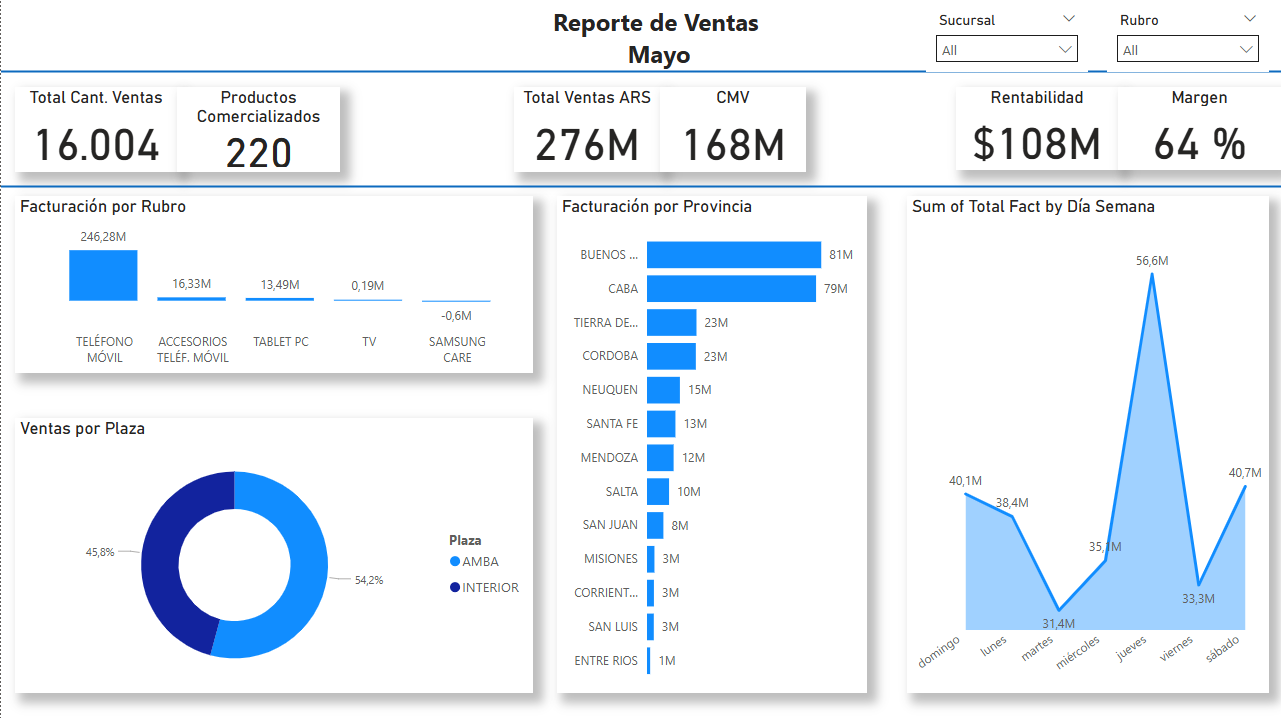

This screenshot's page, from the dashboard's own definition file:
{"tool":"powerbi","page":{"name":"Resumen Ventas","canvas":[1280,720],"ordinal":0},"visuals":[{"type":"textbox","box":[516.5,0,283,78.8],"z":0},{"type":"group","id":"g1","title":"Group 2","box":[512.6,86.6,291.8,84.6],"z":1000},{"type":"card","title":"Total Ventas ARS","fields":{"Values":["Sum(Base Ventas.Total Fact)"]},"box":[512.6,86.6,145.9,84.6],"z":1000,"group":"g1"},{"type":"card","title":"Total Cant. Ventas","fields":{"Values":["Sum(Base Ventas.Cantidad)"]},"box":[13.6,86.6,162.4,84.6],"z":2000,"group":"g3"},{"type":"group","id":"g2","title":"Group 3","box":[955.1,86.6,324.9,82.7],"z":2000},{"type":"group","id":"g3","title":"Group 1","box":[13.6,86.6,324.9,84.6],"z":3000},{"type":"card","title":"Rentabilidad ","fields":{"Values":["Medidas.Rentabilidad Bruta"]},"box":[955.1,86.6,162.4,82.7],"z":3000,"group":"g2"},{"type":"card","title":"Margen","fields":{"Values":["Medidas.Rentabilidad Bruta %"]},"box":[1117.5,86.6,162.4,82.7],"z":4000,"group":"g2"},{"type":"clusteredColumnChart","title":"Facturación por Rubro","fields":{"Category":["Base Ventas.Rubro"],"Y":["Sum(Base Ventas.Total Fact)"]},"box":[13.6,195.5,518.4,177],"z":4000},{"type":"card","title":"CMV","fields":{"Values":["Sum(Merge1.CMV)"]},"box":[658.5,86.6,145.9,84.6],"z":5000,"group":"g1"},{"type":"donutChart","title":"Ventas por Plaza","fields":{"Y":["Sum(Base Ventas.Total Fact)"],"Category":["Estructura.Plaza"]},"box":[13.6,418.2,518.4,275.3],"z":5000},{"type":"card","title":"Productos Comercializados","fields":{"Values":["Count(Stock.SKU)"]},"box":[176,86.6,162.4,84.6],"z":6000,"group":"g3"},{"type":"clusteredBarChart","title":"Facturación por Provincia","fields":{"Category":["Estructura.Provincia"],"Y":["Sum(Base Ventas.Total Fact)"]},"box":[556.4,195.5,309.3,498],"z":6000},{"type":"lineChart","fields":{"Category":["CALENDARIO.Día Semana "],"Y":["Sum(Base Ventas.Total Fact)"]},"box":[905.5,195.5,362.8,498],"z":7000},{"type":"shape","box":[0,54.5,1280,35],"z":8000},{"type":"shape","box":[0,169.2,1280,35],"z":9000},{"type":"slicer","fields":{"Values":["Base Ventas.Rubro"]},"box":[1105.9,6.8,162.4,65.2],"z":10000},{"type":"slicer","fields":{"Values":["Estructura.Sucursal"]},"box":[925,6.8,162.4,65.2],"z":11000}]}

Visuals, with their boxes in screenshot pixels (x1, y1, x2, y2), scaled from the page's 1280x720 canvas onto the 1281x718 screenshot:
textbox: left=517, top=0, right=800, bottom=79
"Group 2" group: left=513, top=86, right=805, bottom=171
"Total Ventas ARS" card: left=513, top=86, right=659, bottom=171
"Total Cant. Ventas" card: left=14, top=86, right=176, bottom=171
"Group 3" group: left=956, top=86, right=1280, bottom=169
"Group 1" group: left=14, top=86, right=339, bottom=171
"Rentabilidad " card: left=956, top=86, right=1118, bottom=169
"Margen" card: left=1118, top=86, right=1280, bottom=169
"Facturación por Rubro" clusteredColumnChart: left=14, top=195, right=532, bottom=371
"CMV" card: left=659, top=86, right=805, bottom=171
"Ventas por Plaza" donutChart: left=14, top=417, right=532, bottom=692
"Productos Comercializados" card: left=176, top=86, right=339, bottom=171
"Facturación por Provincia" clusteredBarChart: left=557, top=195, right=866, bottom=692
lineChart - CALENDARIO.Día Semana  x Sum(Base Ventas.Total Fact): left=906, top=195, right=1269, bottom=692
shape: left=0, top=54, right=1280, bottom=89
shape: left=0, top=169, right=1280, bottom=204
slicer - Base Ventas.Rubro: left=1107, top=7, right=1269, bottom=72
slicer - Estructura.Sucursal: left=926, top=7, right=1088, bottom=72
